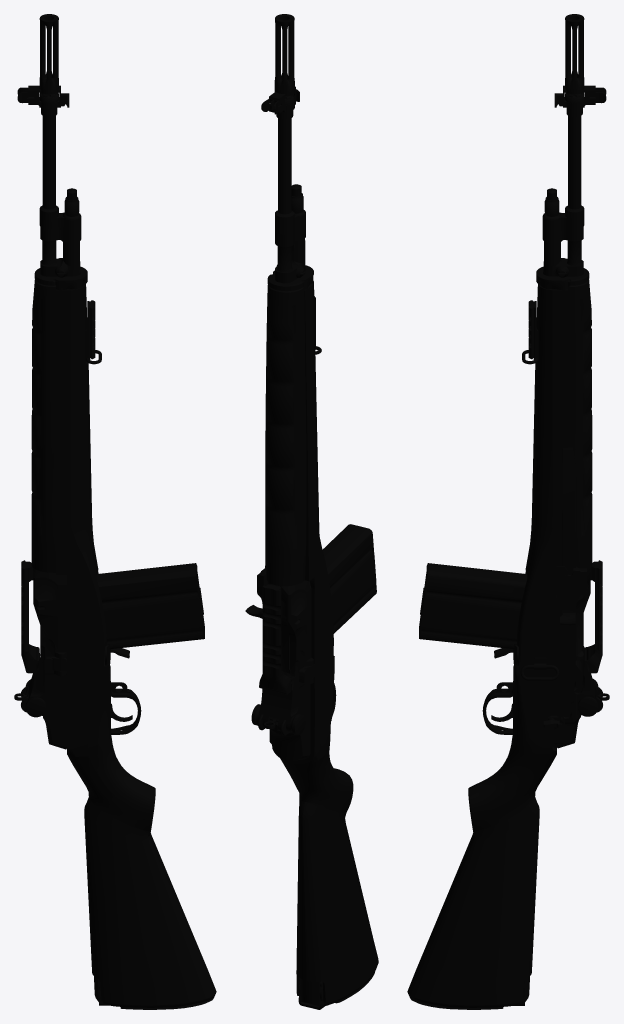
The picture shows the model from 3 angles, left to right: view 1: azimuth 90°, elevation 25°; view 2: azimuth 150°, elevation 25°; view 3: azimuth 270°, elevation 25°; orthographic projection. The views are drawn at different scales.
Parts seen in each view (by area): view 1: asset_M14.001; view 2: asset_M14.001; view 3: asset_M14.001.
Part boxes in pixels (x1=…): asset_M14.001: x1=14, y1=14, x2=216, y2=1009; asset_M14.001: x1=245, y1=14, x2=378, y2=1009; asset_M14.001: x1=407, y1=14, x2=609, y2=1009.
Size of the model in its own units: 0.044 by 0.672 by 0.1252.
